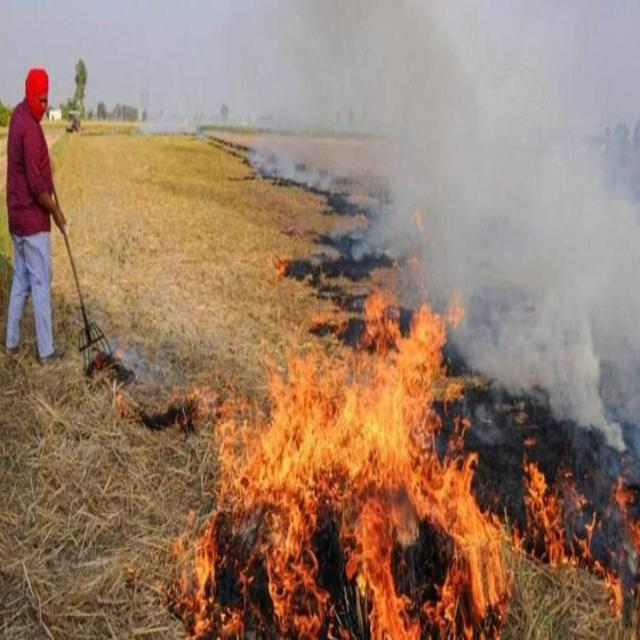fire: (273, 376, 458, 530)
smoke: (412, 18, 628, 272)
